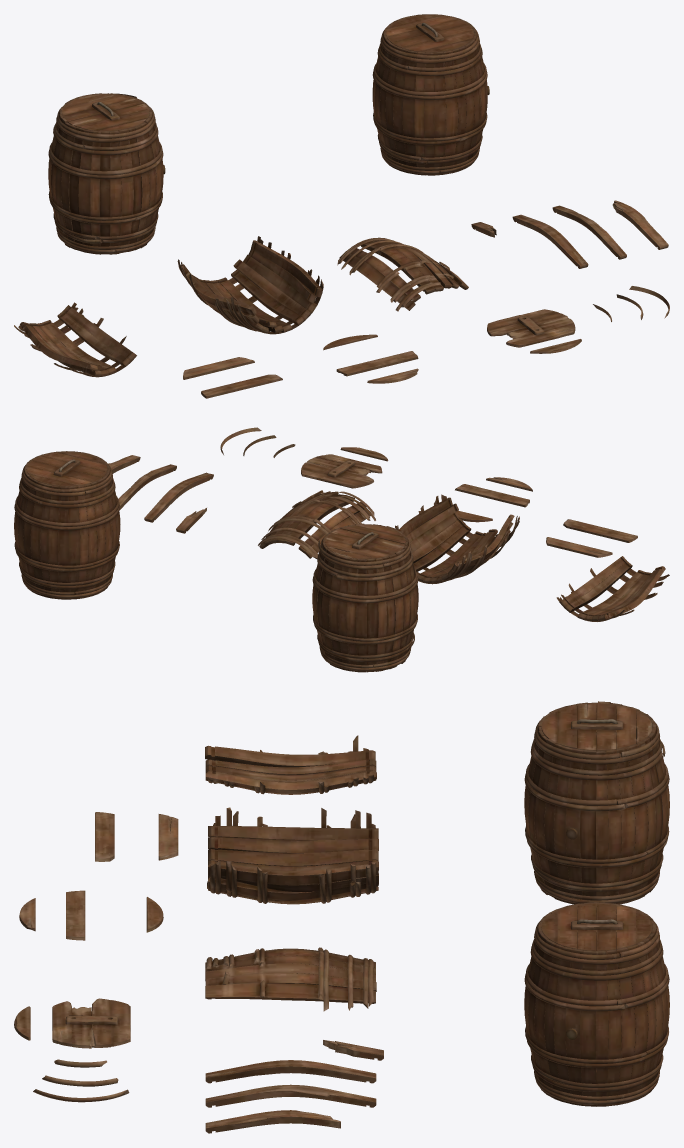
The model's file is wooden_barrels_01.glb.
3 views of the same model, one above another, from view 1: azimuth 30°, elevation 25°; view 2: azimuth 150°, elevation 25°; view 3: azimuth 270°, elevation 25° (orthographic). The views are drawn at different scales.
Parts seen in each view (by area): view 1: wooden_barrels_01_piece01, wooden_barrels_01_barrel02, wooden_barrels_01_barrel01; view 2: wooden_barrels_01_piece01, wooden_barrels_01_barrel02, wooden_barrels_01_barrel01; view 3: wooden_barrels_01_piece01, wooden_barrels_01_barrel01, wooden_barrels_01_barrel02.
Part boxes in pixels (box(x1,y1,x2,y2)): wooden_barrels_01_piece01: box(14, 200, 669, 398); wooden_barrels_01_barrel02: box(48, 93, 165, 254); wooden_barrels_01_barrel01: box(372, 14, 489, 175); wooden_barrels_01_piece01: box(108, 427, 669, 621); wooden_barrels_01_barrel02: box(312, 523, 418, 672); wooden_barrels_01_barrel01: box(14, 451, 120, 599); wooden_barrels_01_piece01: box(14, 735, 383, 1133); wooden_barrels_01_barrel01: box(524, 902, 669, 1106); wooden_barrels_01_barrel02: box(524, 701, 669, 904).
Bounding box in the file's own units: 4.44 × 0.9568 × 3.34.
3 materials, 3 textured.
